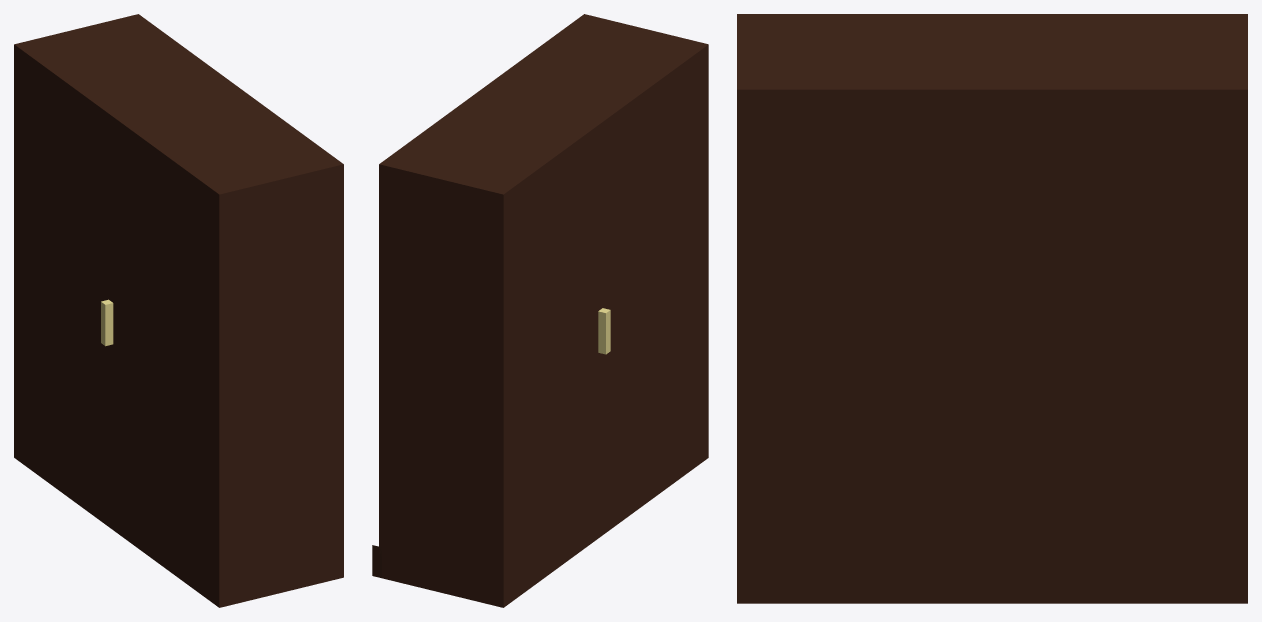
The model's file is guarda_roupa_quarto.glb.
The picture shows the model from 3 angles, left to right: view 1: azimuth 30°, elevation 25°; view 2: azimuth 150°, elevation 25°; view 3: azimuth 270°, elevation 25°; orthographic projection. The views are drawn at different scales.
Parts seen in each view (by area): view 1: Malha_0; view 2: Malha_0; view 3: Malha_0.
Boxes of the visible parts, <box> form: Malha_0: <box>14,14,343,607</box>; Malha_0: <box>372,14,708,607</box>; Malha_0: <box>737,14,1247,603</box>.
Bounding box in the file's own units: 0.705 × 2 × 1.8.
